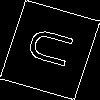U: (25, 24, 85, 74)
